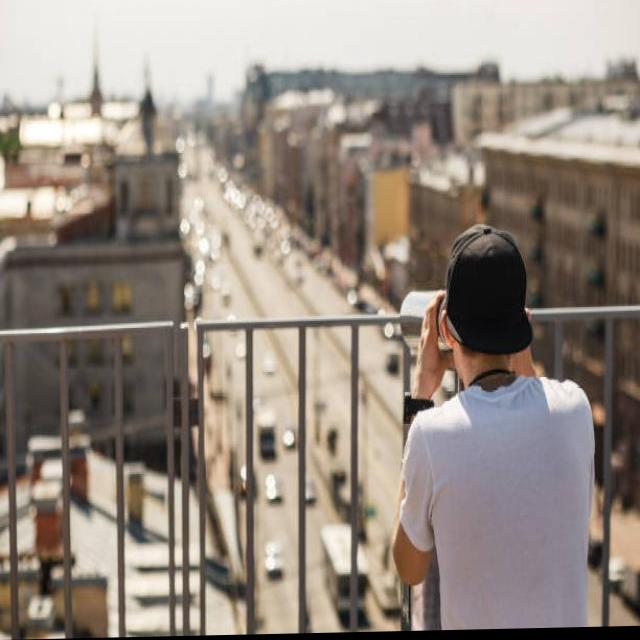no helmet: (416, 200, 550, 416)
